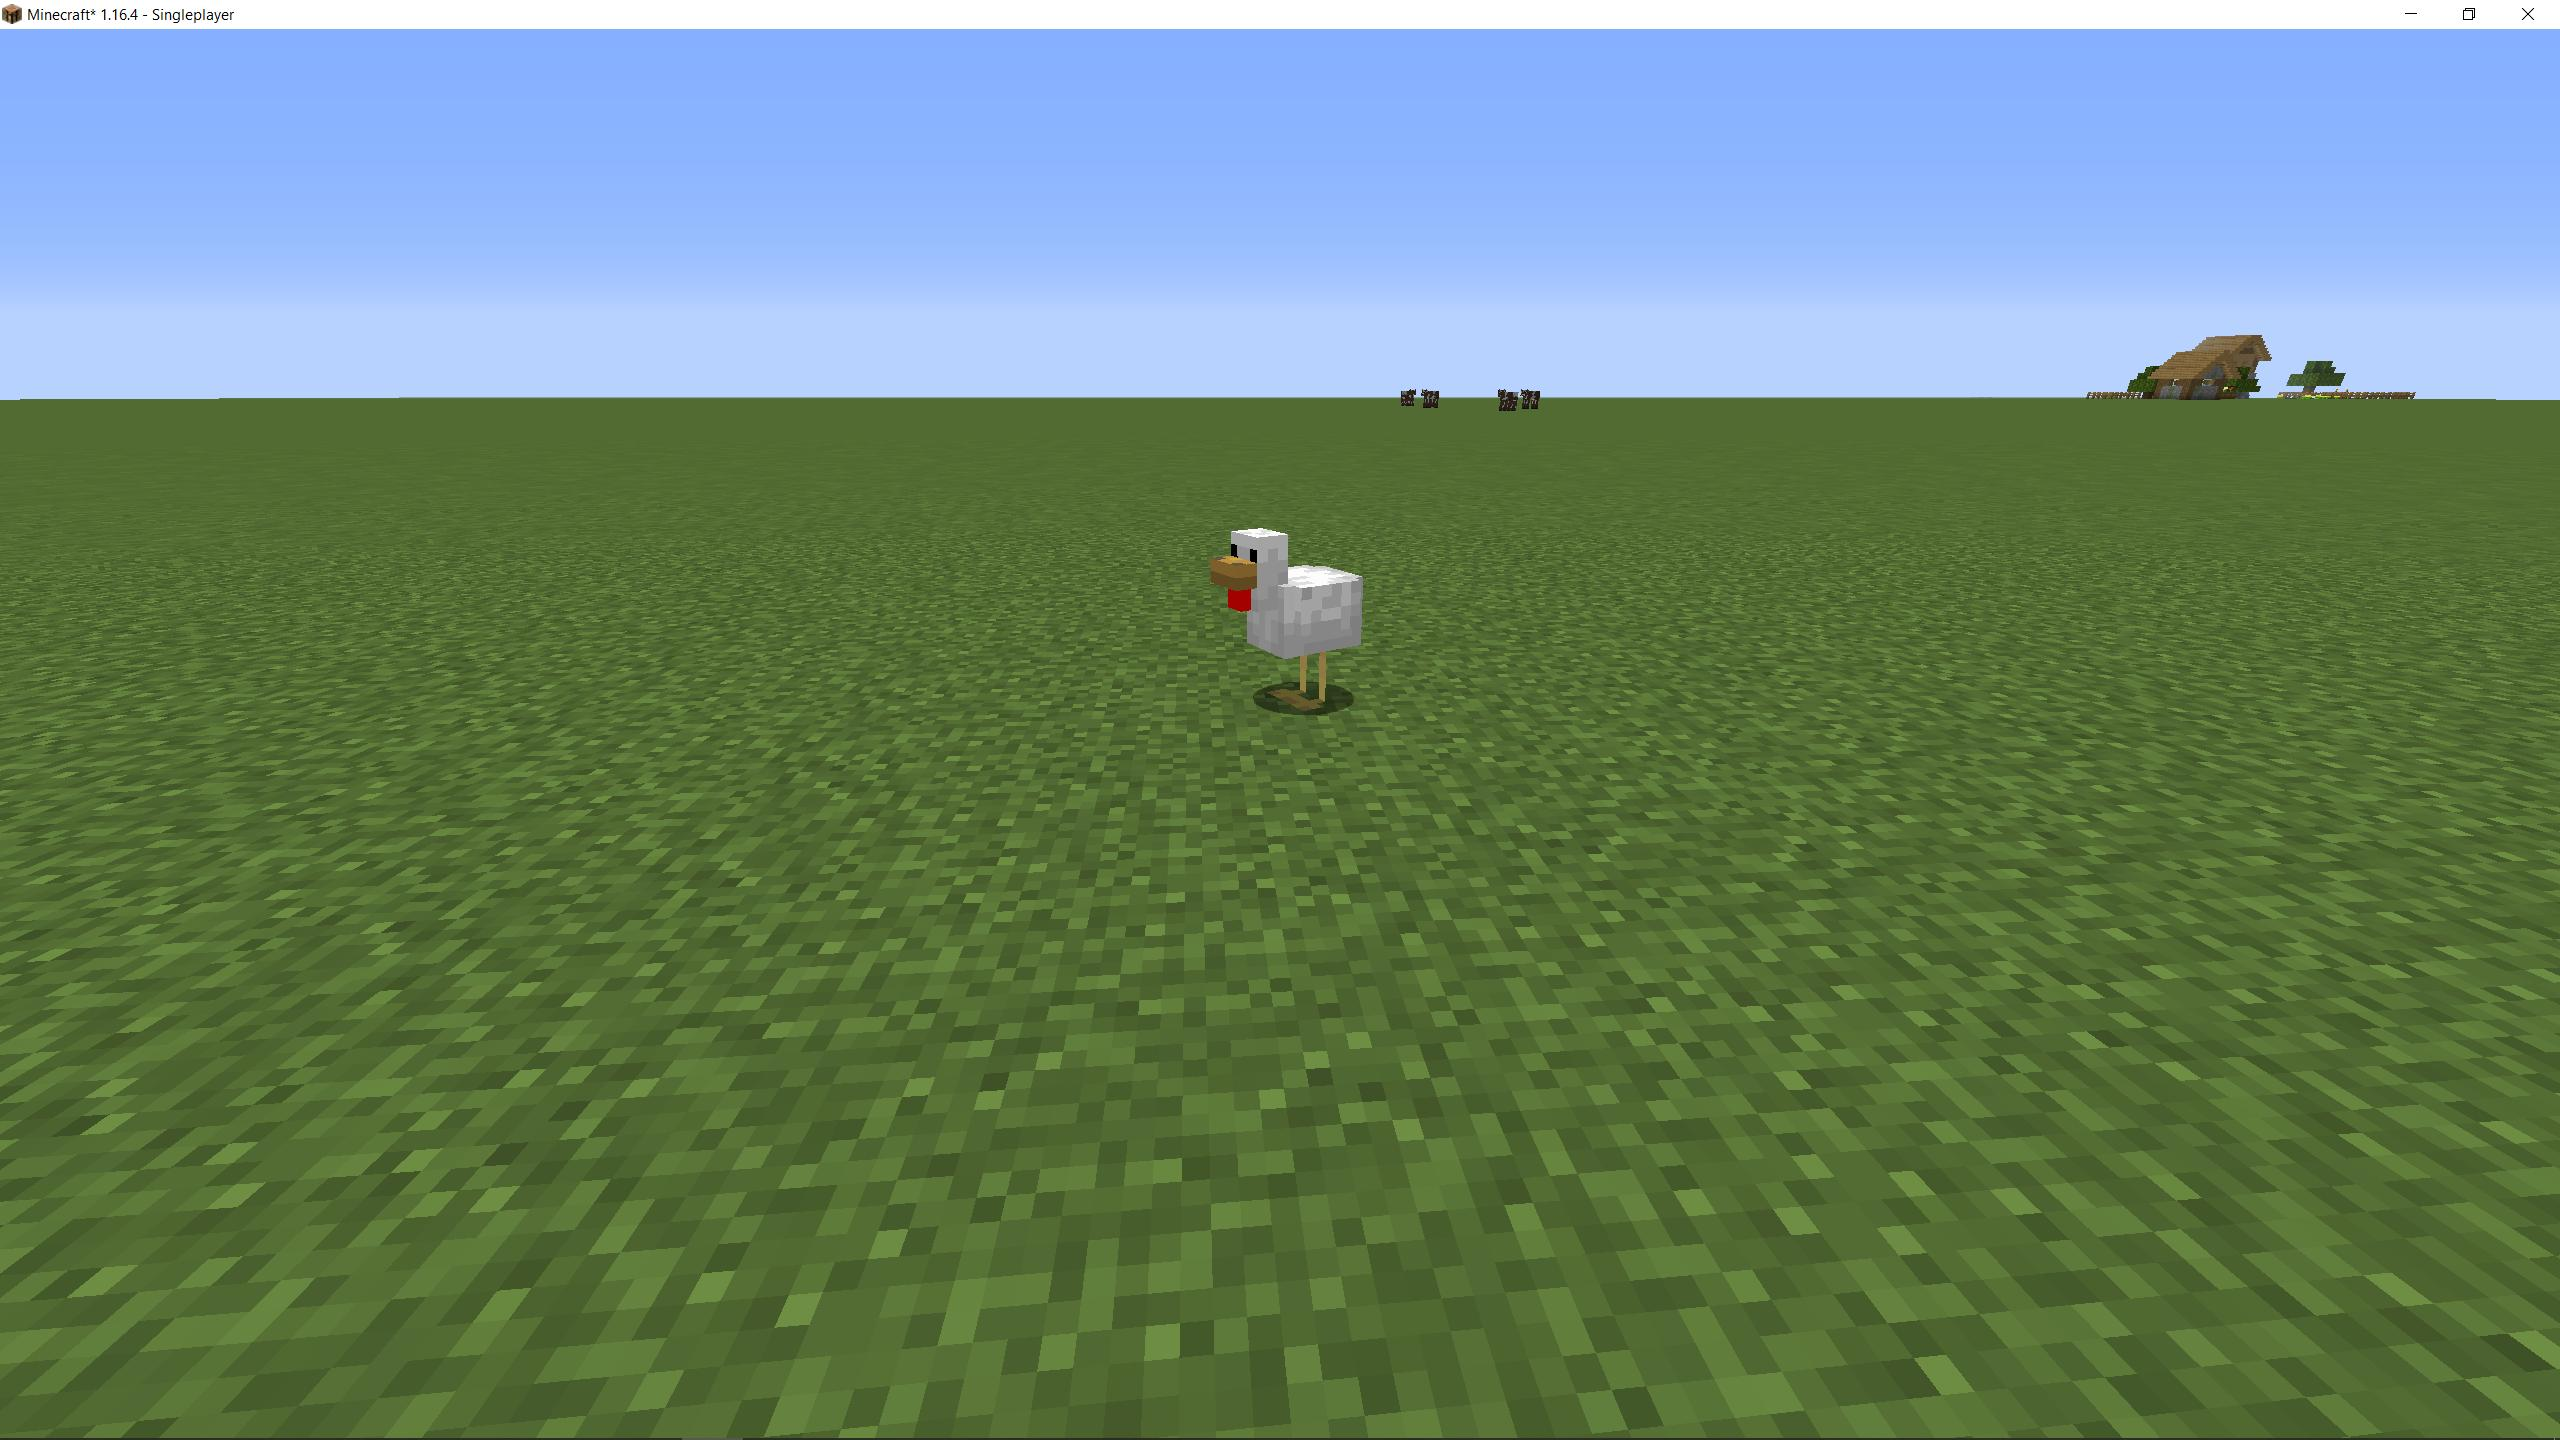chicken: (1203, 524, 1373, 716)
